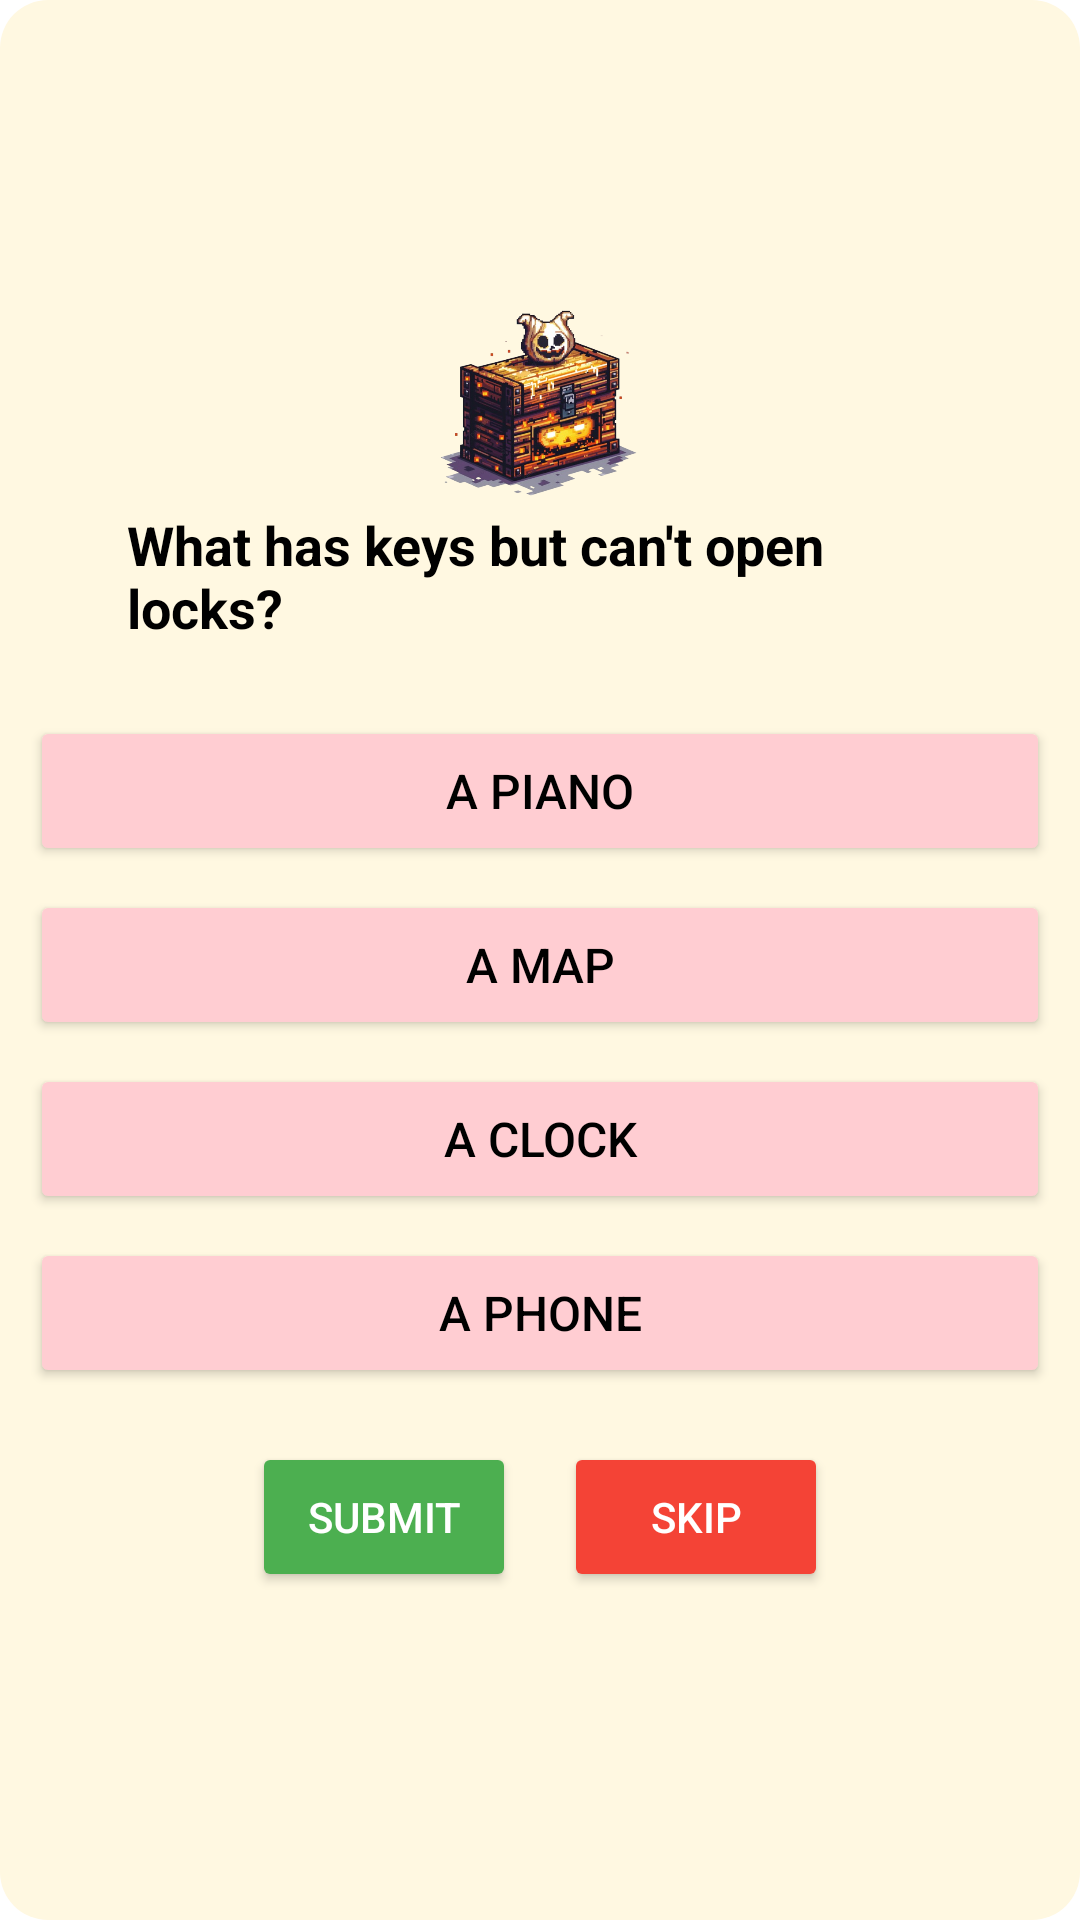

Icons on this 1080 x 1920 Android screen, each with its box as [x1, y1, x2, y2]:
Treasure Image: [441, 310, 636, 495]
